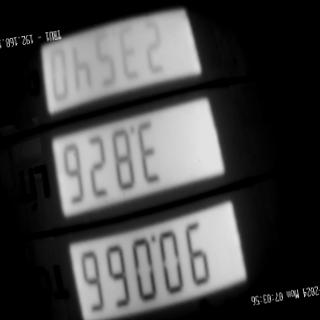screen: (25, 0, 260, 320)
